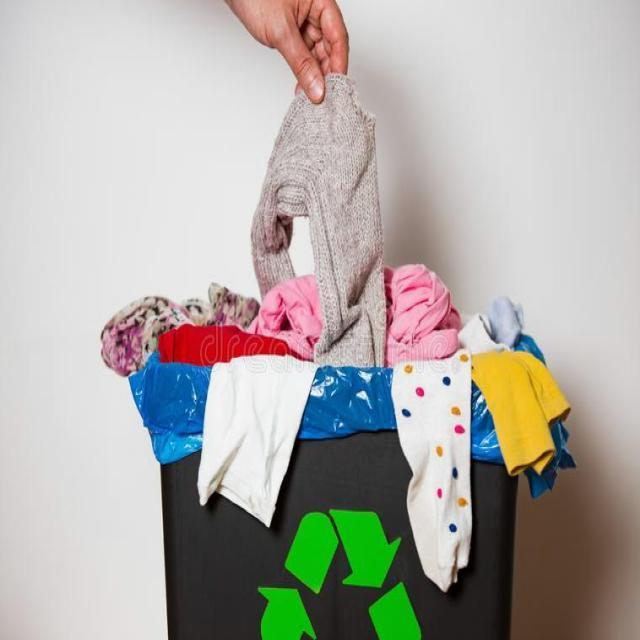clothes: (268, 101, 378, 388)
